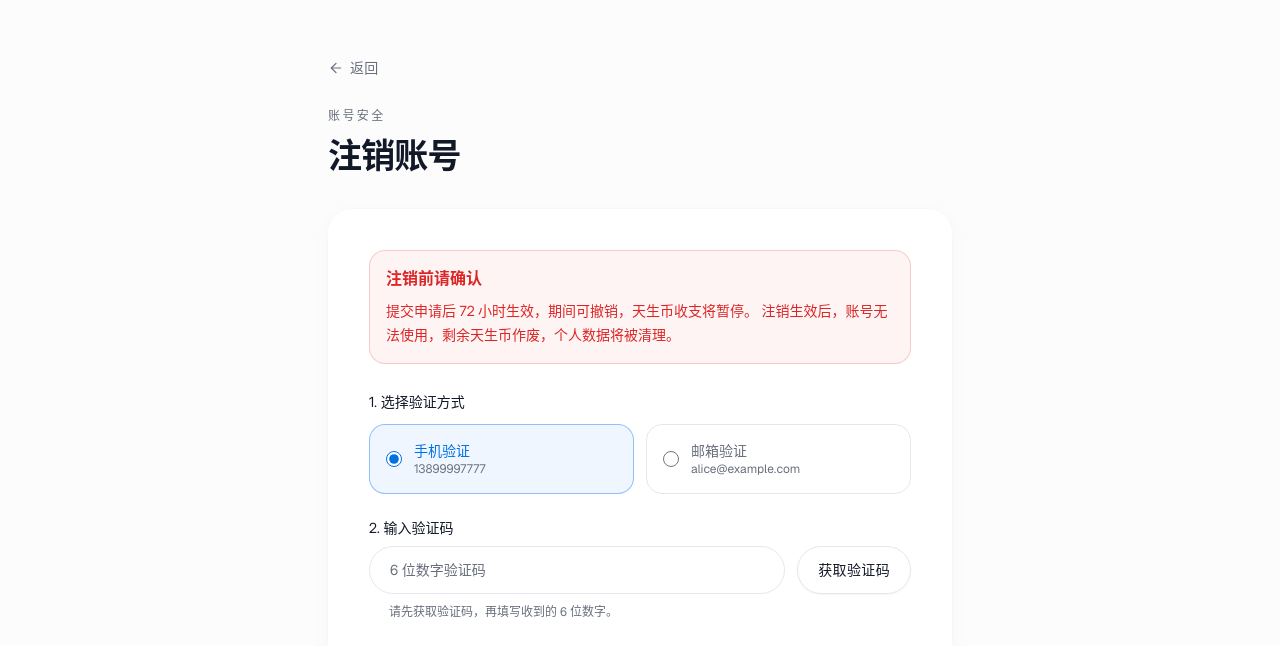
Test: DeleteAccountForm 72小时注销 › 键盘焦点覆盖新增签署项；验证码错误不清会话
Click the button "获取验证码" at (854, 570), box x1=797 y1=546 x2=911 y2=594
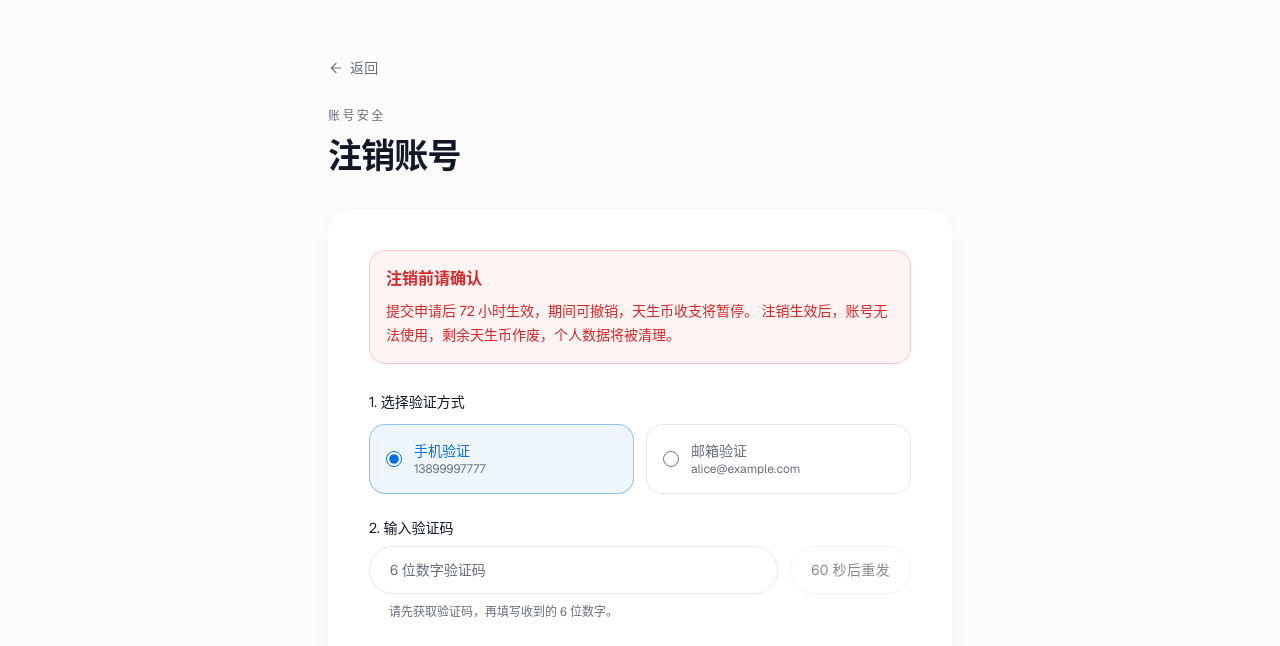
Type "000000" into the field with placeholder "6 位数字验证码" at (574, 570), box x1=369 y1=546 x2=778 y2=594
(page scrolled)
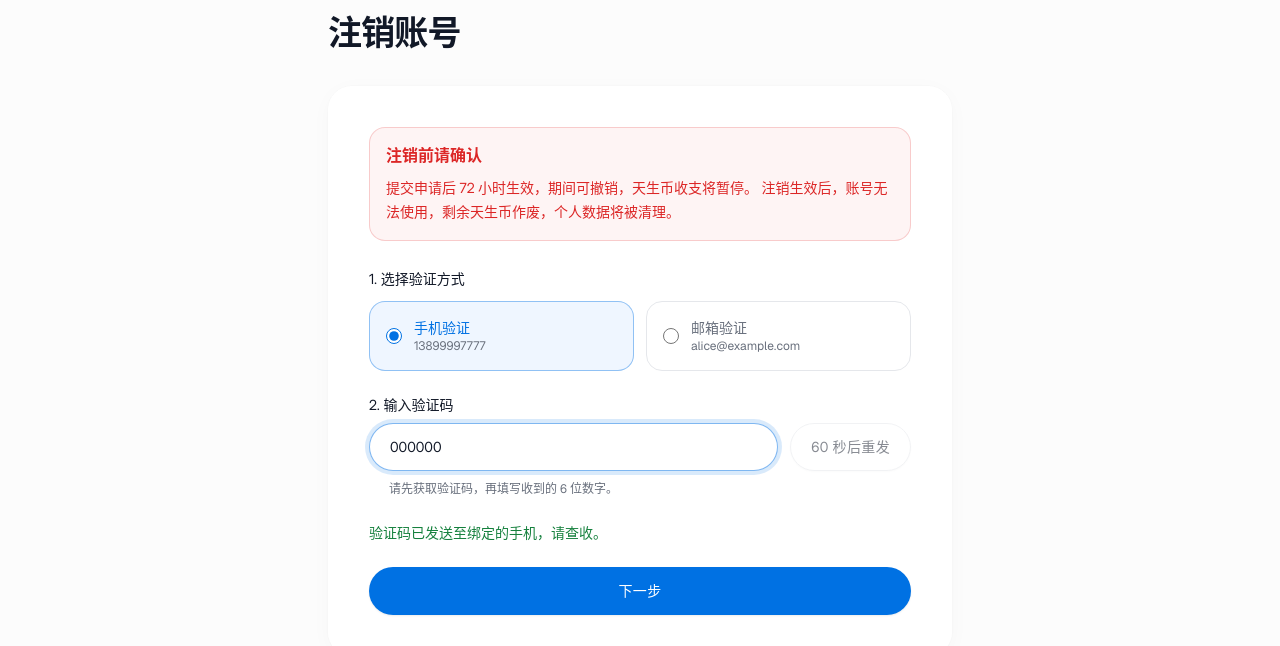
Click the button "下一步" at (640, 591), box x1=369 y1=567 x2=911 y2=615
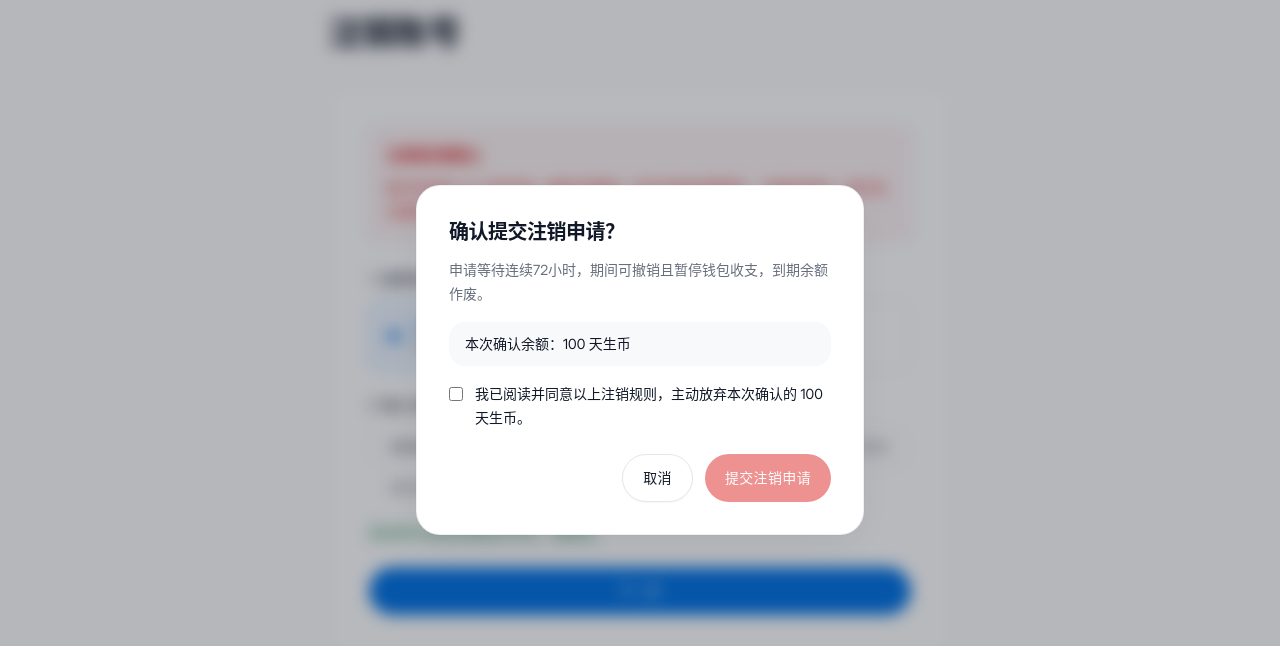
Press Tab
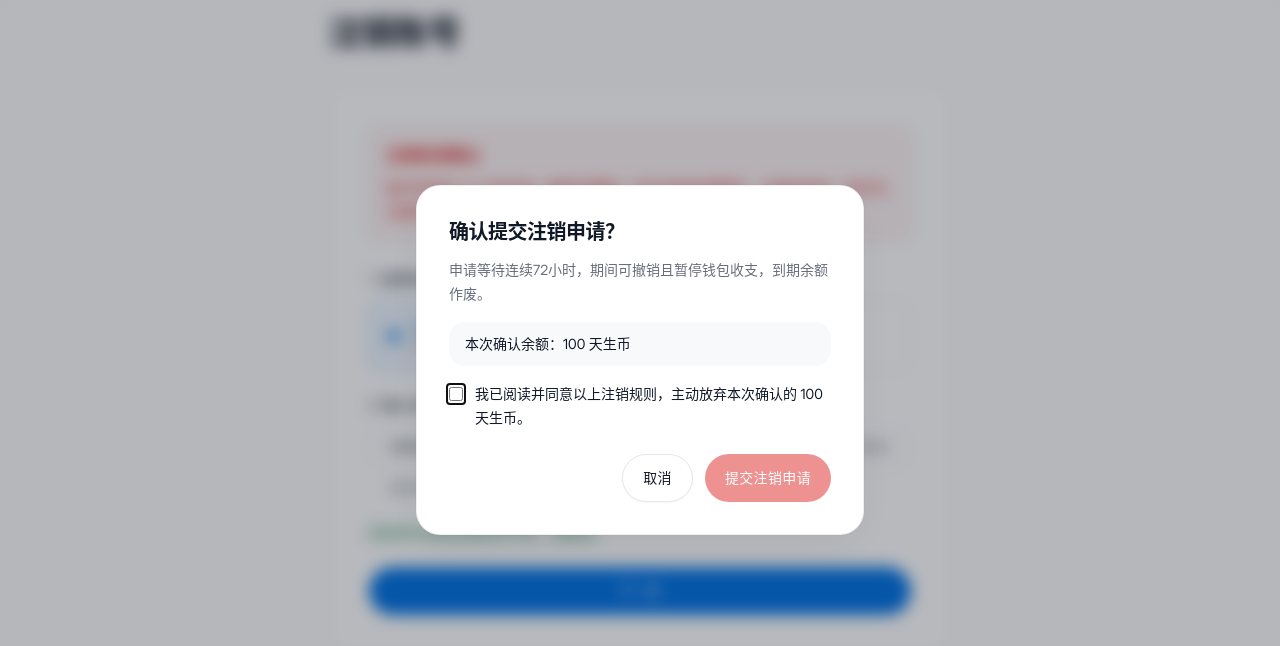
Click the checkbox at (456, 394), box x1=449 y1=386 x2=463 y2=402
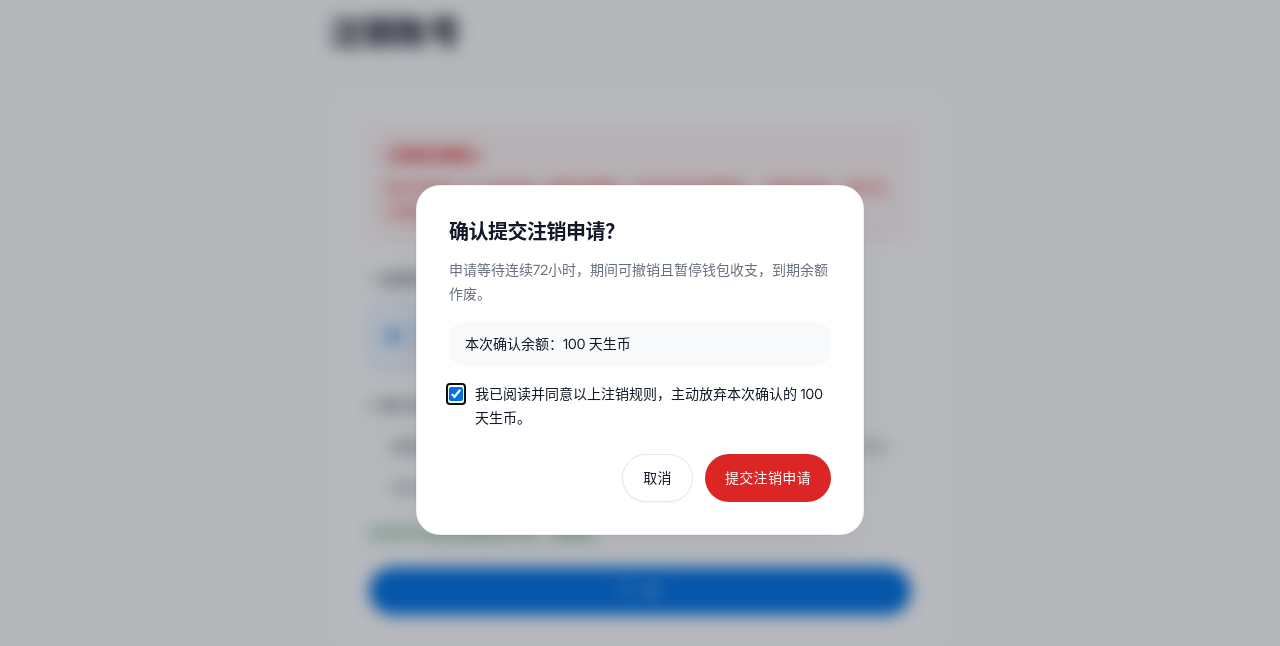
Click the button "提交注销申请" at (768, 478), box x1=705 y1=454 x2=831 y2=502
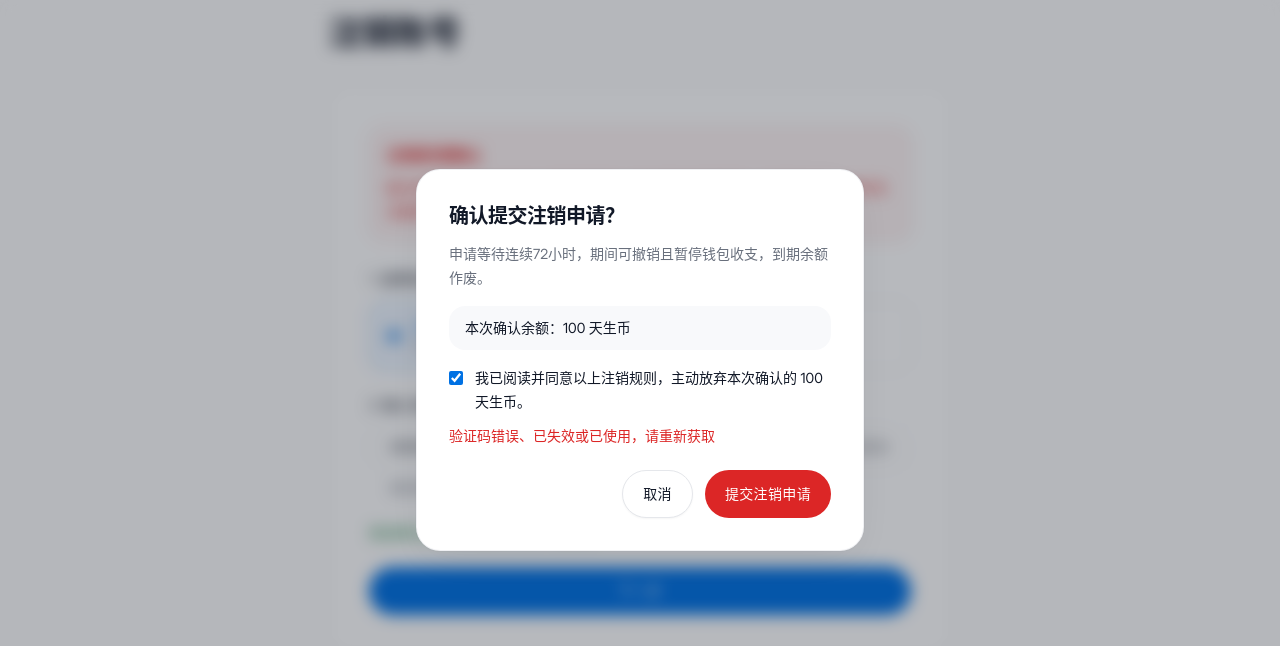
Expected: the message shows "验证码错误", x1=449 y1=427 x2=715 y2=445
